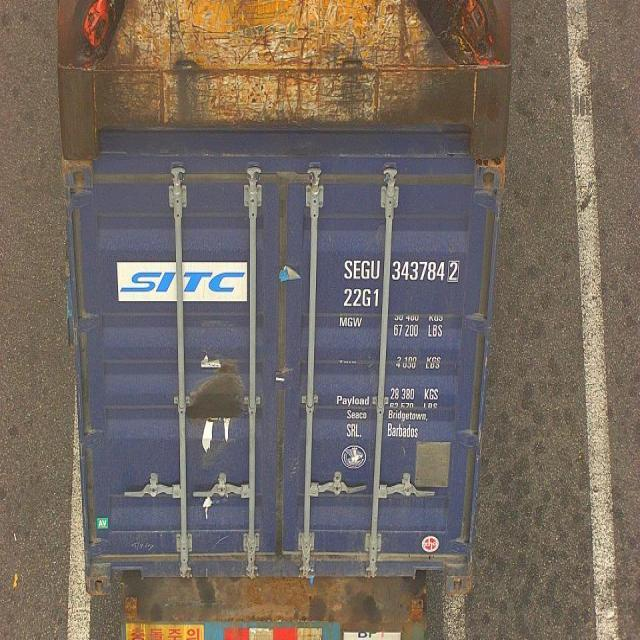ISO: (343, 287, 381, 310)
container_number: (344, 258, 462, 286)
